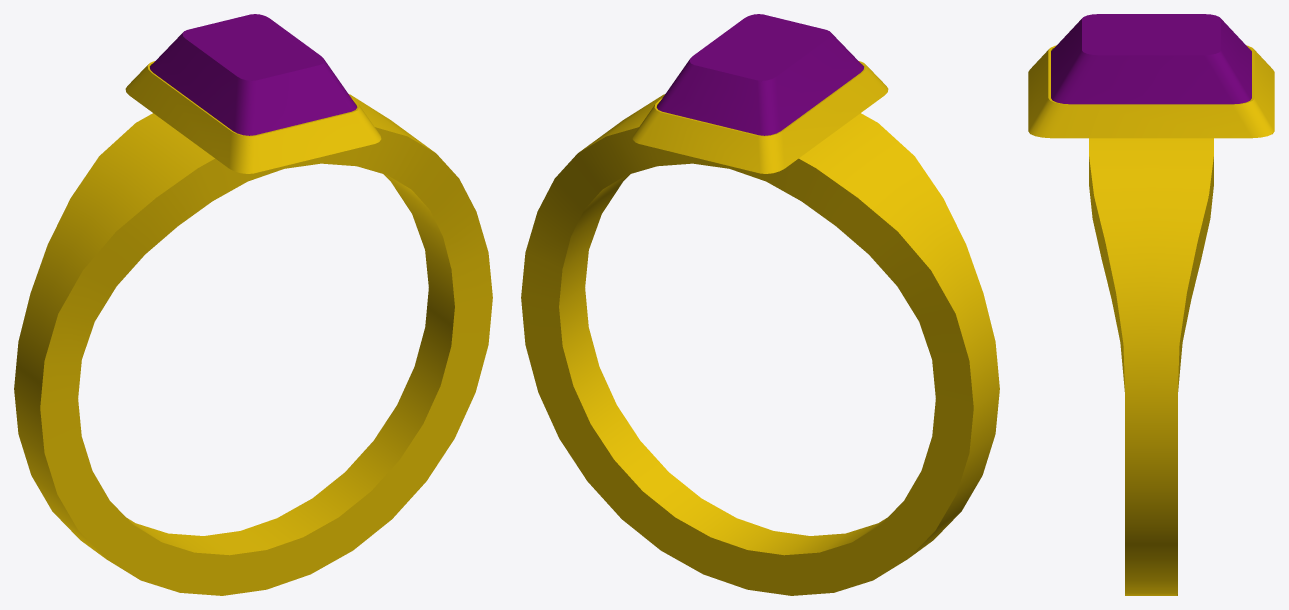
Rendered from ring_dd4794ed.glb.
3 renders of one model, left to right at view 1: azimuth 30°, elevation 25°; view 2: azimuth 150°, elevation 25°; view 3: azimuth 270°, elevation 25°, orthographic.
Visible parts, largest first — view 1: Object_2; view 2: Object_2; view 3: Object_2.
Part boxes in pixels (<box>): Object_2: <box>14,14,492,595</box>; Object_2: <box>521,14,999,595</box>; Object_2: <box>1028,14,1274,595</box>.
Size of the model in its own units: 0.7487 by 0.8418 by 0.3499.
1 material, 1 textured.
